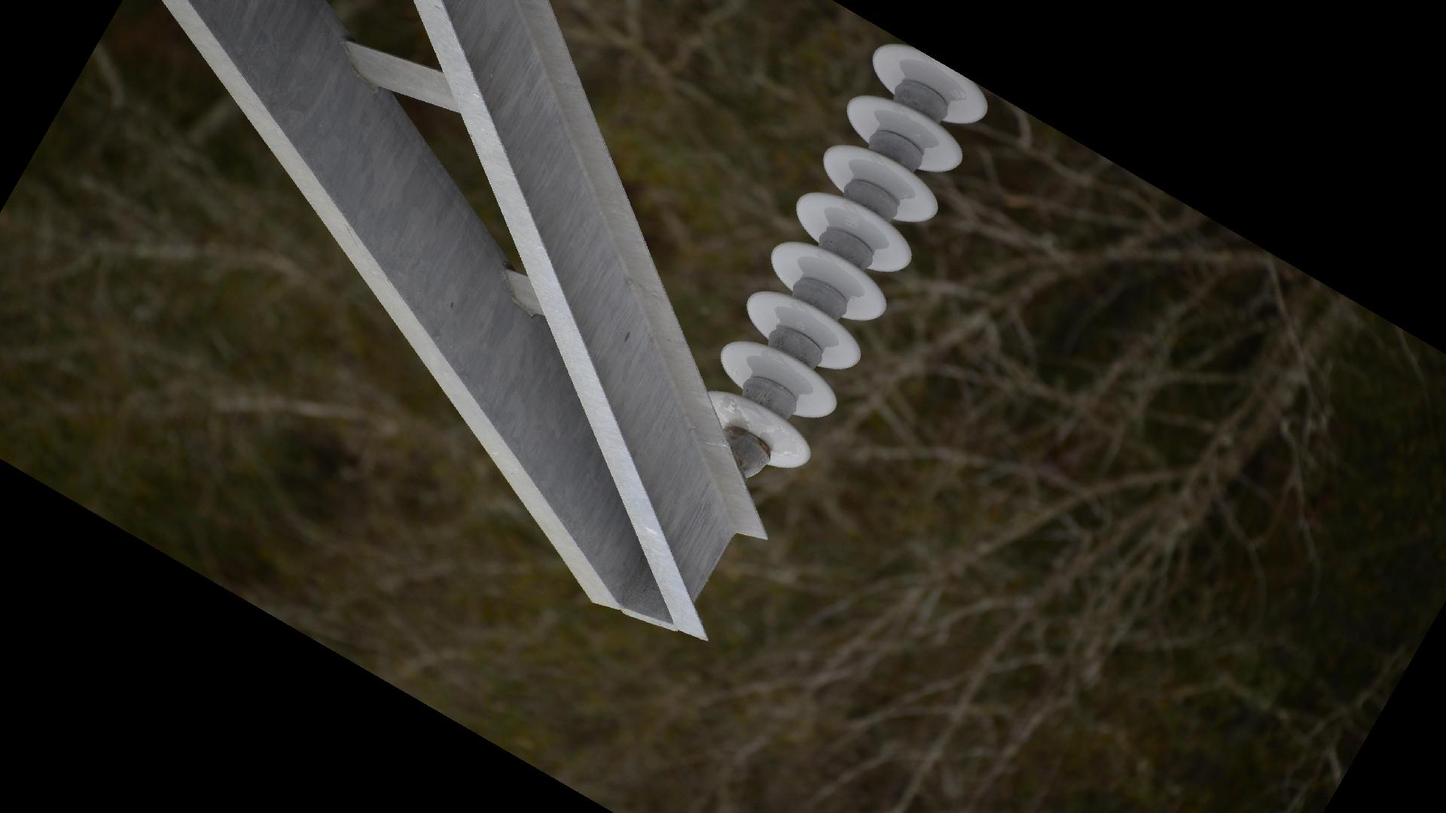insulator: (700, 39, 993, 475)
insulator_flashover: (757, 426, 804, 458), (717, 395, 753, 432)
